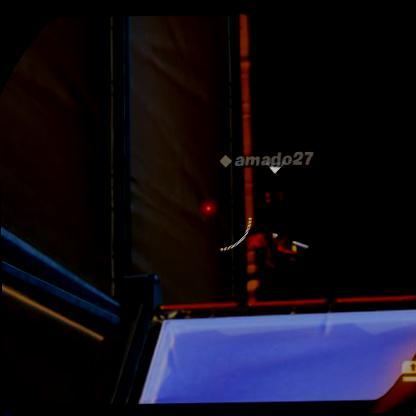person: (238, 186, 308, 302)
